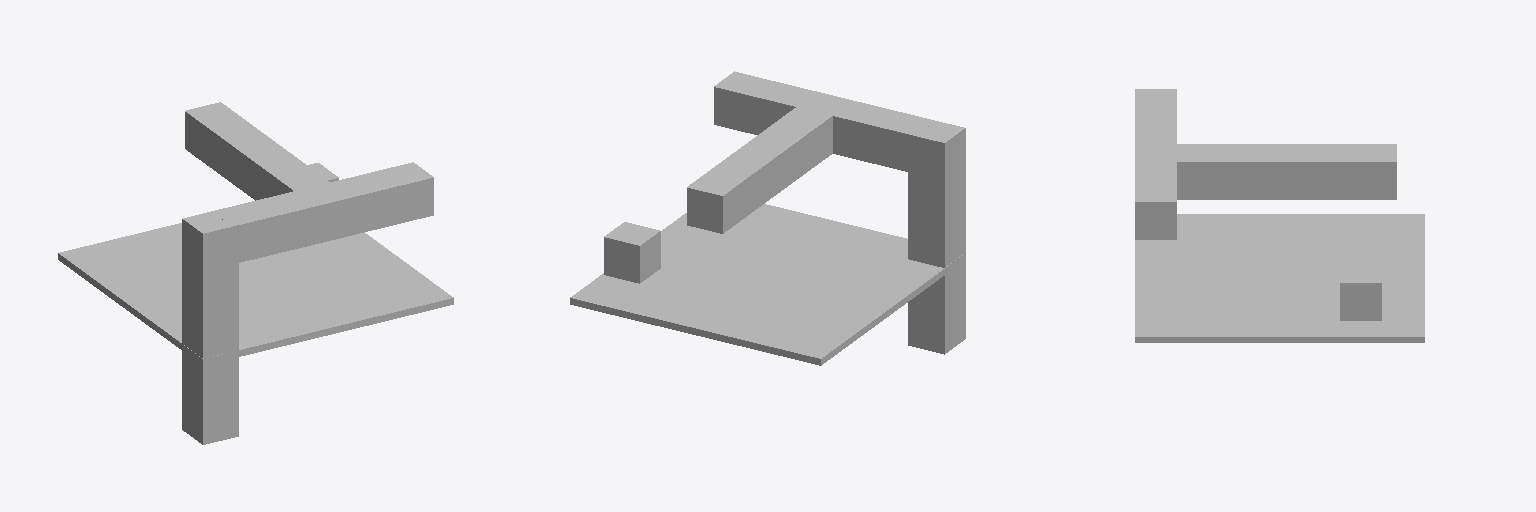
Rendered from try_lvl.obj.
3 views of the same model, side by side, from view 1: azimuth 30°, elevation 25°; view 2: azimuth 150°, elevation 25°; view 3: azimuth 270°, elevation 25° (orthographic).
Visible parts, largest first — view 1: off; view 2: off; view 3: off.
Part boxes in pixels (x1,y1,x2,y2): off: (58,102,453,444); off: (570,71,965,365); off: (1135,89,1424,342).
Size of the model in its own units: 13.86 by 11.15 by 13.86.